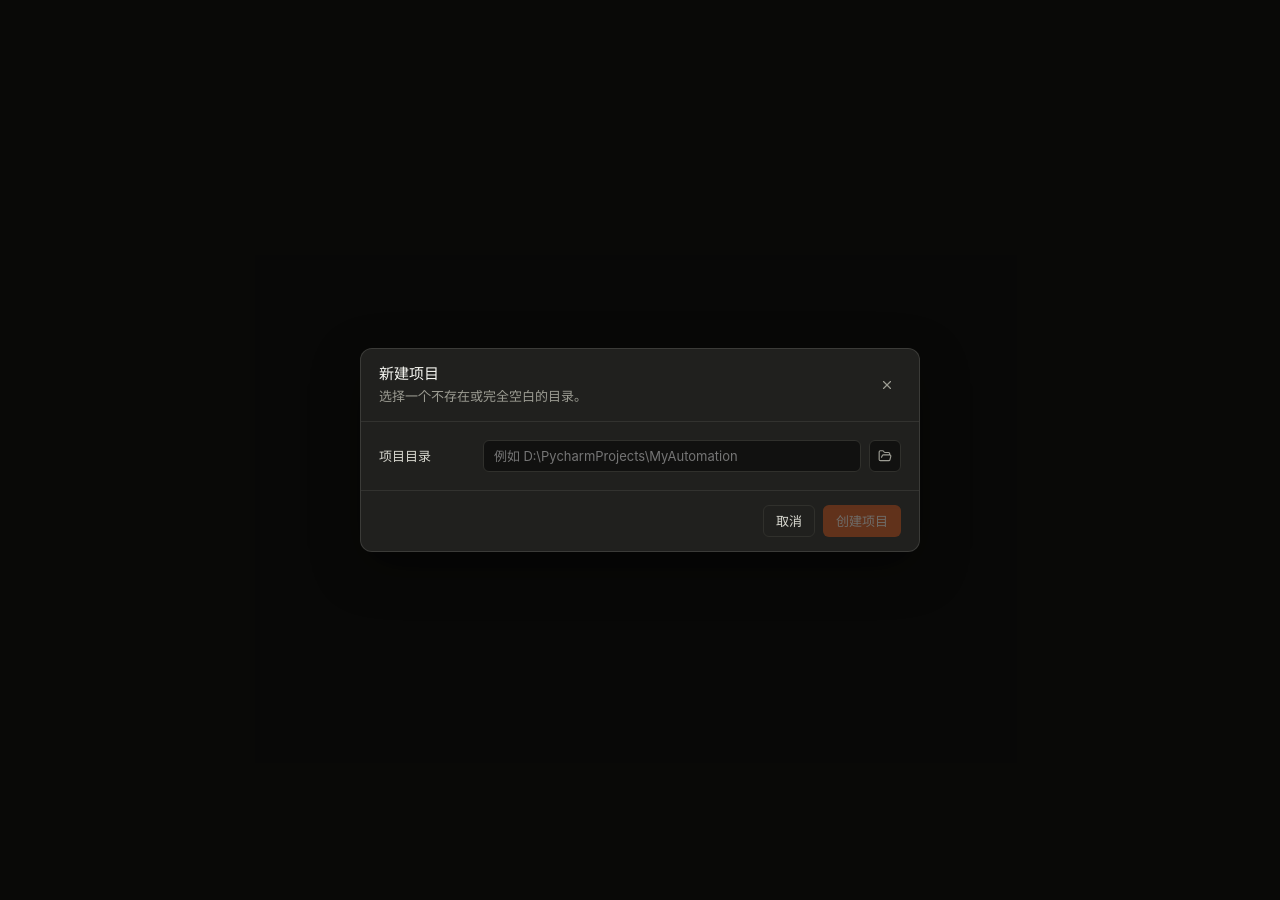
Test: VNextCreateProjectDialog › keeps path entry and folder selection in one compact field row
The image size is (1280, 900).
Click the button with class "app-field-action" at (885, 456), box [869, 440, 901, 472]
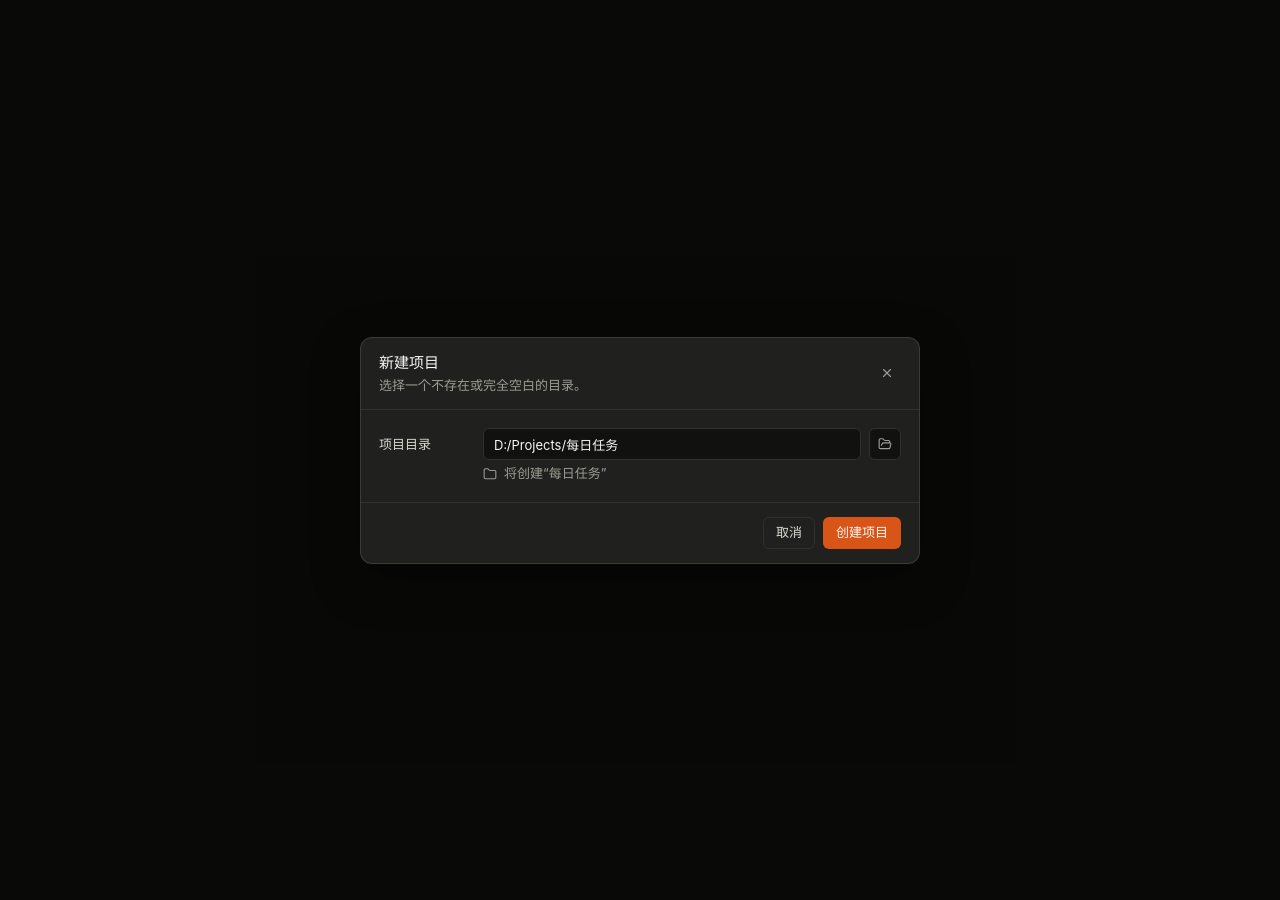
Expected: the field with class "app-form-control" holds "D:/Projects/每日任务", [483, 428, 861, 460]
Expected: the element with class "app-form-help" shows "每日任务", [504, 465, 606, 481]
